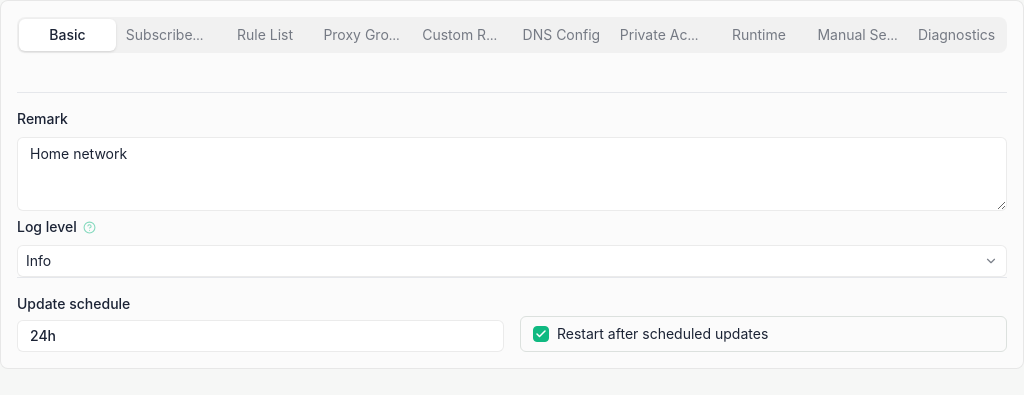
Test: ProxySubscribeEditor › shows save failures inline without discarding the edited value
Replace the text in the text box named "remark" with "Unsaved local edit" at (512, 174), box [17, 137, 1007, 211]
Wait 800 ms
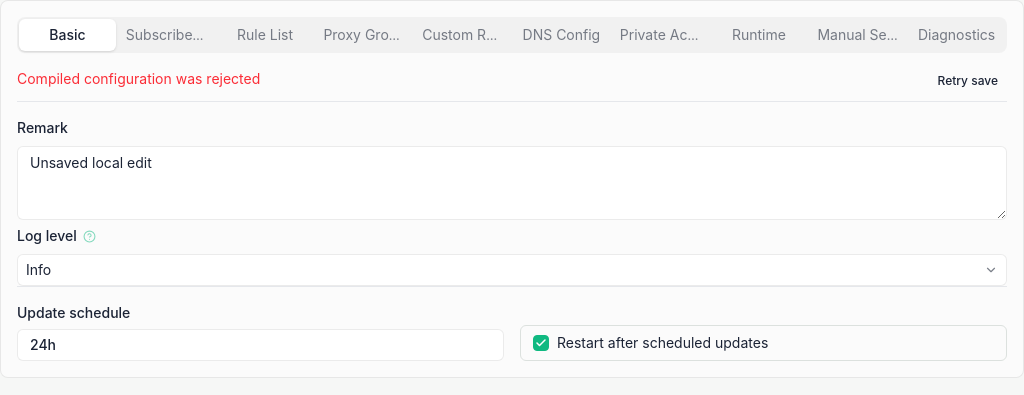
Expected: the message reads "Compiled configuration was rejected", [17, 70, 260, 87]
